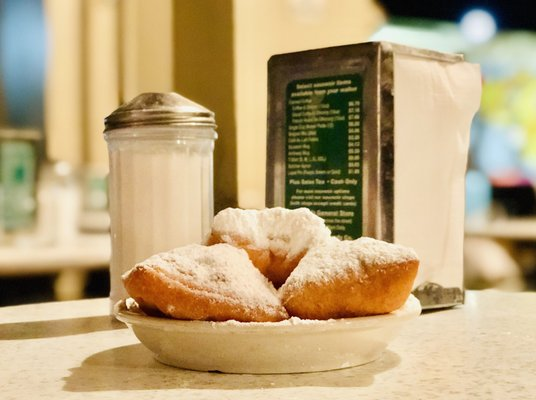curry: (2, 299, 496, 394)
salad: (277, 236, 421, 320)
